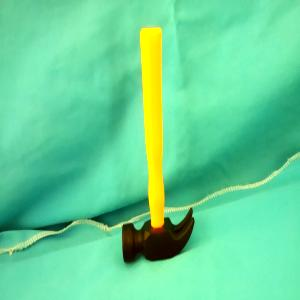martelo: (121, 26, 196, 264)
